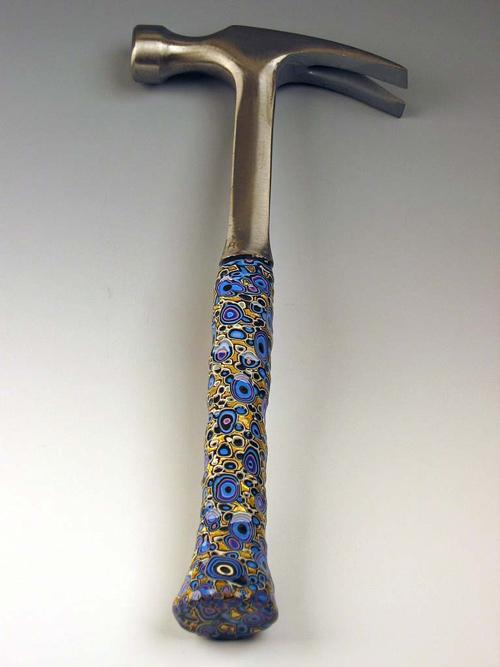hammer: (127, 20, 412, 644)
